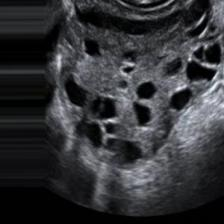pcos: (61, 0, 224, 166)
